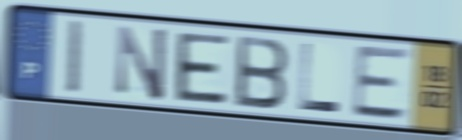B: (233, 33, 292, 113)
E: (350, 44, 415, 123), (173, 30, 232, 107)
I: (66, 16, 86, 98)
L: (297, 39, 344, 116)
N: (114, 23, 170, 105)
